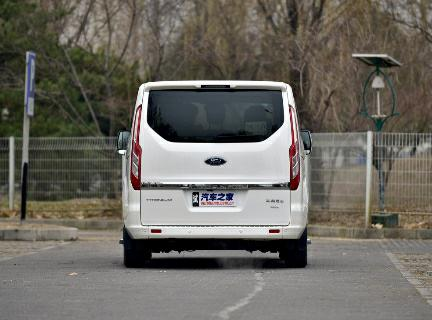福特-途睿欧: (112, 69, 315, 278)
